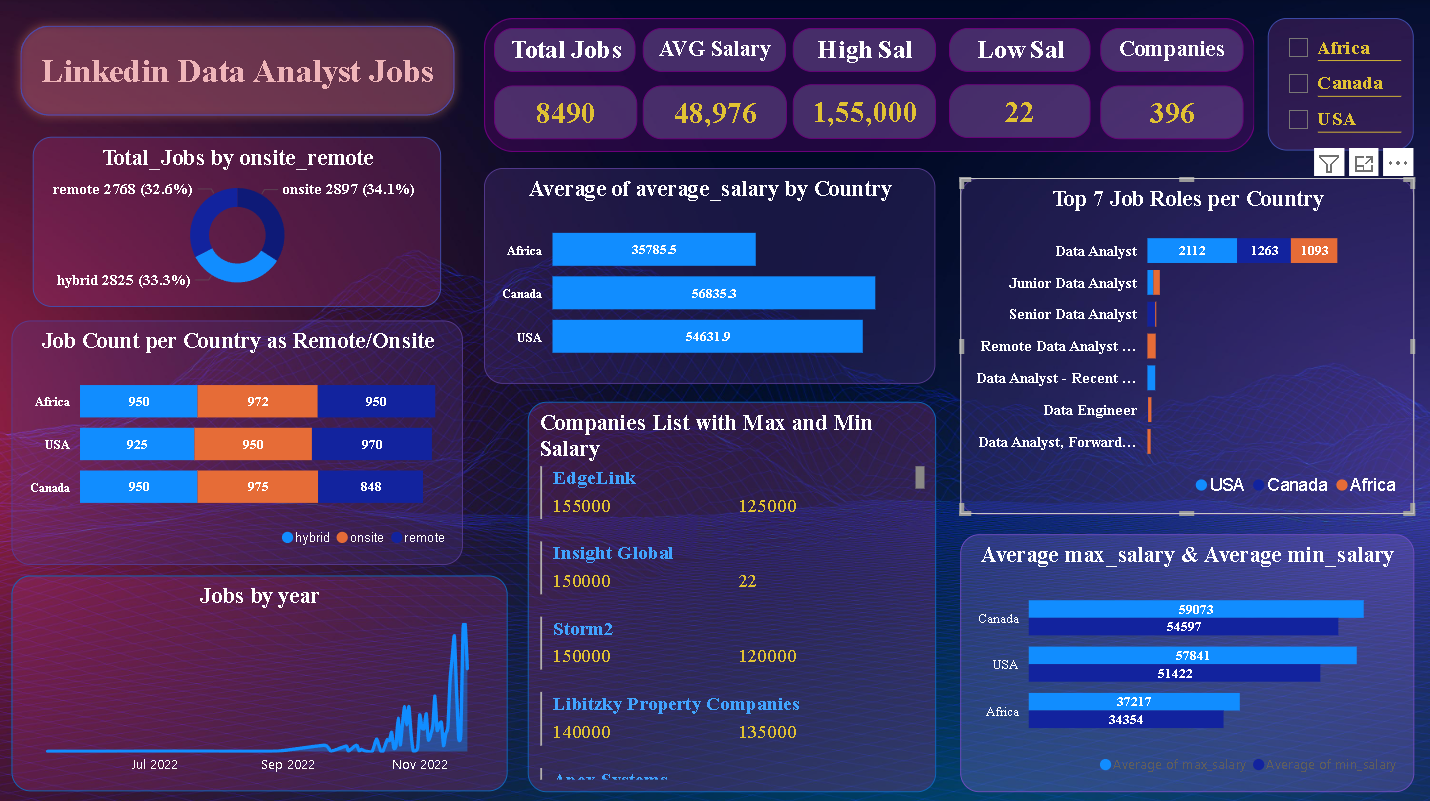

This screenshot's page, from the dashboard's own definition file:
{"tool":"powerbi","page":{"name":"Page 1","canvas":[1280,720],"ordinal":0},"visuals":[{"type":"shape","box":[433.7,17.4,688.4,119.8],"z":0},{"type":"card","title":"Jobs","fields":{"Values":["linkedin_data_analysts.Total_Jobs"]},"box":[441.9,77.9,127.9,47.7],"z":1000},{"type":"card","title":"Jobs","fields":{"Values":["linkedin_data_analysts.avg_sal"]},"box":[575.6,77.9,129.1,47.7],"z":2000},{"type":"card","title":"Jobs","fields":{"Values":["linkedin_data_analysts.Highest_sal"]},"box":[709.3,76.7,127.9,48.8],"z":3000},{"type":"card","title":"Jobs","fields":{"Values":["linkedin_data_analysts.low_sal"]},"box":[848.8,76.7,126.7,47.7],"z":4000},{"type":"card","title":"Jobs","fields":{"Values":["linkedin_data_analysts.total_companies"]},"box":[983.7,77.9,127.9,47.7],"z":5000},{"type":"textbox","title":"Total Jobs","box":[441.9,26.7,126.7,39.5],"z":6000},{"type":"textbox","title":"AVG Salary","box":[575.6,26.7,127.9,39.5],"z":7000},{"type":"textbox","title":"High Sal","box":[709.3,26.7,127.9,39.5],"z":8000},{"type":"textbox","title":"Low Sal","box":[848.8,26.7,126.7,39.5],"z":9000},{"type":"textbox","title":"Companies","box":[983.7,26.7,127.9,39.5],"z":10000},{"type":"barChart","title":"Average of average_salary by Country","fields":{"Category":["linkedin_data_analysts.Country"],"Y":["Avg(linkedin_data_analysts.average_salary)"]},"box":[433.7,152.3,403.5,193],"z":11000},{"type":"shape","title":"Linkedin Data Analyst Jobs ","box":[11.2,16.2,403.8,96.2],"z":12000},{"type":"barChart","title":"Top 7 Job Roles per Country","fields":{"Y":["linkedin_data_analysts.Total_Jobs"],"Category":["linkedin_data_analysts.title"],"Series":["linkedin_data_analysts.Country"]},"box":[858.1,160.5,405.8,301.2],"z":13000},{"type":"barChart","title":"Job Count per Country as Remote/Onsite","fields":{"Y":["linkedin_data_analysts.Total_Jobs"],"Category":["linkedin_data_analysts.onsite_remote"],"Series":["linkedin_data_analysts.Country"]},"box":[11.6,288.4,403.5,218.6],"z":14000},{"type":"clusteredBarChart","title":"Average max_salary & Average min_salary","fields":{"Y":["Avg(linkedin_data_analysts.max_salary)","Avg(linkedin_data_analysts.min_salary)"],"Category":["linkedin_data_analysts.Country"]},"box":[858.1,479.1,405.8,230.2],"z":15000},{"type":"donutChart","fields":{"Category":["linkedin_data_analysts.onsite_remote"],"Y":["linkedin_data_analysts.Total_Jobs"]},"box":[30.2,124.4,365.1,152.3],"z":16000},{"type":"areaChart","title":"Jobs by year","fields":{"Y":["linkedin_data_analysts.Total_Jobs"],"Category":["linkedin_data_analysts.posted_date.Variation.Date Hierarchy.Year","linkedin_data_analysts.posted_date.Variation.Date Hierarchy.Quarter","linkedin_data_analysts.posted_date.Variation.Date Hierarchy.Month","linkedin_data_analysts.posted_date.Variation.Date Hierarchy.Day"]},"box":[11.6,516.3,443,193],"z":17000},{"type":"slicer","fields":{"Values":["linkedin_data_analysts.Country"]},"box":[1133.7,17.4,130.2,118.6],"z":18000},{"type":"multiRowCard","title":"Companies List with Max and Min Salary","fields":{"Values":["Max(linkedin_data_analysts.max_salary)","Min(linkedin_data_analysts.min_salary)","linkedin_data_analysts.company"]},"box":[472.1,360.5,365.1,348.8],"z":19000}]}

Visuals, with their boxes in screenshot pixels (x1, y1, x2, y2), scaled from the page's 1280x720 canvas onto the 1430x801 screenshot:
shape: <region>485, 19, 1254, 153</region>
"Jobs" card: <region>494, 87, 637, 140</region>
"Jobs" card: <region>643, 87, 787, 140</region>
"Jobs" card: <region>792, 85, 935, 140</region>
"Jobs" card: <region>948, 85, 1090, 138</region>
"Jobs" card: <region>1099, 87, 1242, 140</region>
"Total Jobs" textbox: <region>494, 30, 635, 74</region>
"AVG Salary" textbox: <region>643, 30, 786, 74</region>
"High Sal" textbox: <region>792, 30, 935, 74</region>
"Low Sal" textbox: <region>948, 30, 1090, 74</region>
"Companies" textbox: <region>1099, 30, 1242, 74</region>
"Average of average_salary by Country" barChart: <region>485, 169, 935, 384</region>
"Linkedin Data Analyst Jobs " shape: <region>13, 18, 464, 125</region>
"Top 7 Job Roles per Country" barChart: <region>959, 179, 1412, 514</region>
"Job Count per Country as Remote/Onsite" barChart: <region>13, 321, 464, 564</region>
"Average max_salary & Average min_salary" clusteredBarChart: <region>959, 533, 1412, 789</region>
donutChart - linkedin_data_analysts.onsite_remote x linkedin_data_analysts.Total_Jobs: <region>34, 138, 442, 308</region>
"Jobs by year" areaChart: <region>13, 574, 508, 789</region>
slicer - linkedin_data_analysts.Country: <region>1267, 19, 1412, 151</region>
"Companies List with Max and Min Salary" multiRowCard: <region>527, 401, 935, 789</region>
